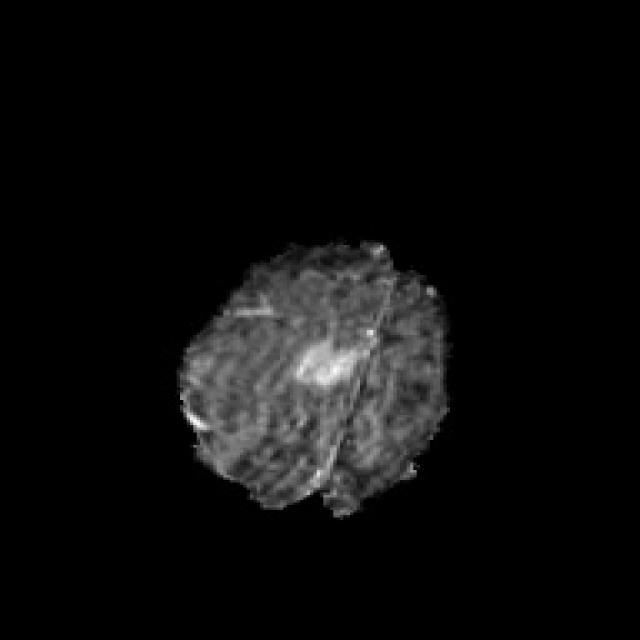positive: (295, 342, 358, 386)
